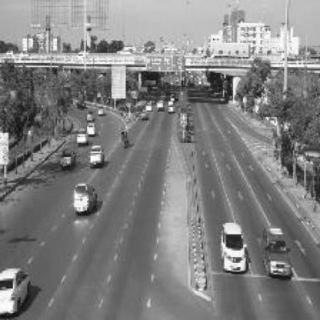other: (61, 170, 98, 223)
